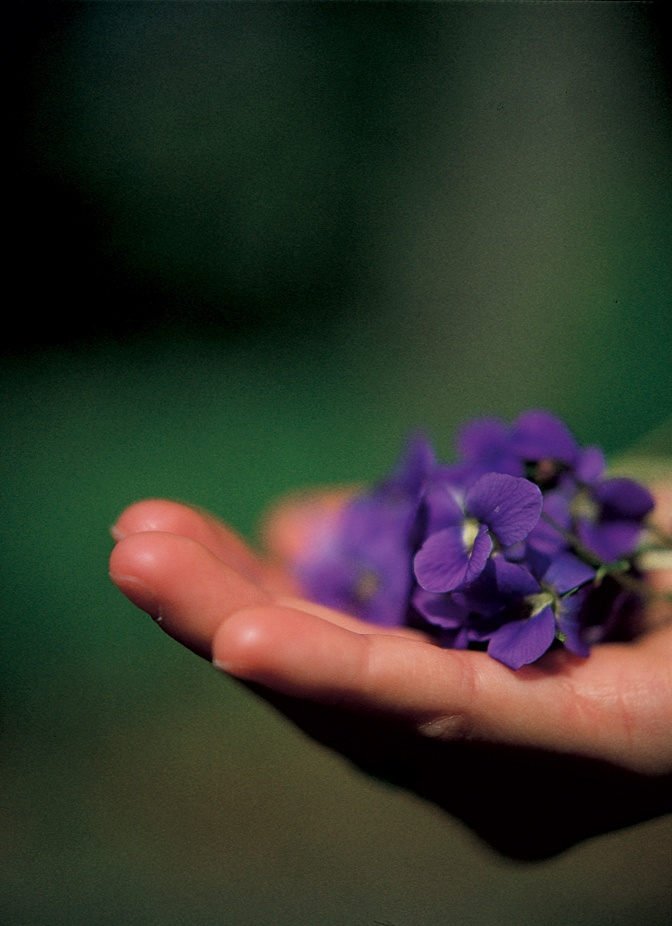violet: (315, 430, 660, 670)
